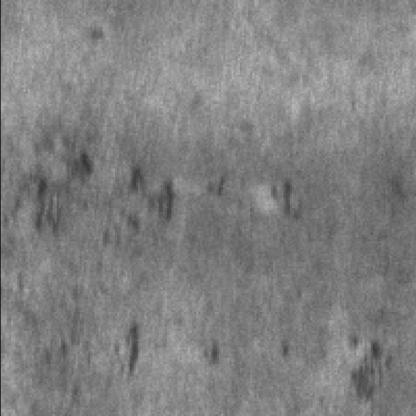rolled-in_scale: (19, 148, 291, 237), (333, 330, 391, 404)
